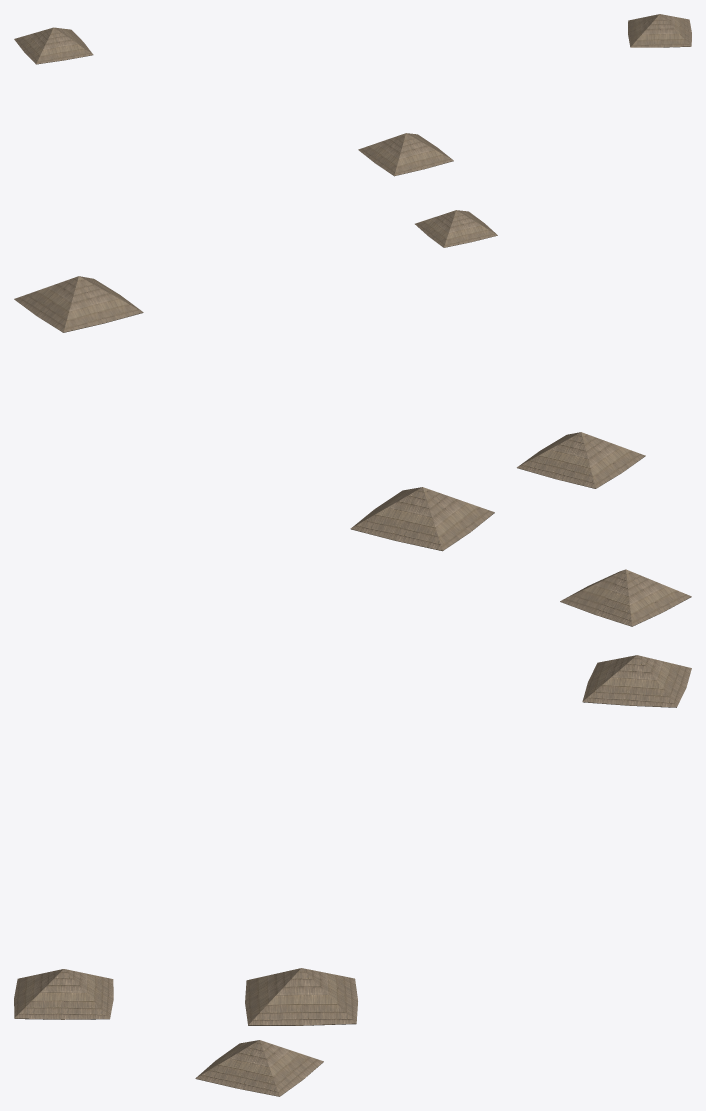
The model's file is SM_Chateaux_01_01.001.fbx.
3 renders of one model, top to bottom at view 1: azimuth 30°, elevation 25°; view 2: azimuth 150°, elevation 25°; view 3: azimuth 270°, elevation 25°, orthographic. The views are drawn at different scales.
Visible parts, largest first — view 1: SM_Chateaux_01_01.001; view 2: SM_Chateaux_01_01.001; view 3: SM_Chateaux_01_01.001.
Part boxes in pixels (x1,y1,x2,y2): SM_Chateaux_01_01.001: [14, 14, 691, 247]; SM_Chateaux_01_01.001: [14, 276, 691, 626]; SM_Chateaux_01_01.001: [14, 655, 691, 1096].
Bounding box in the file's own units: 8402 × 1737 × 5836.
